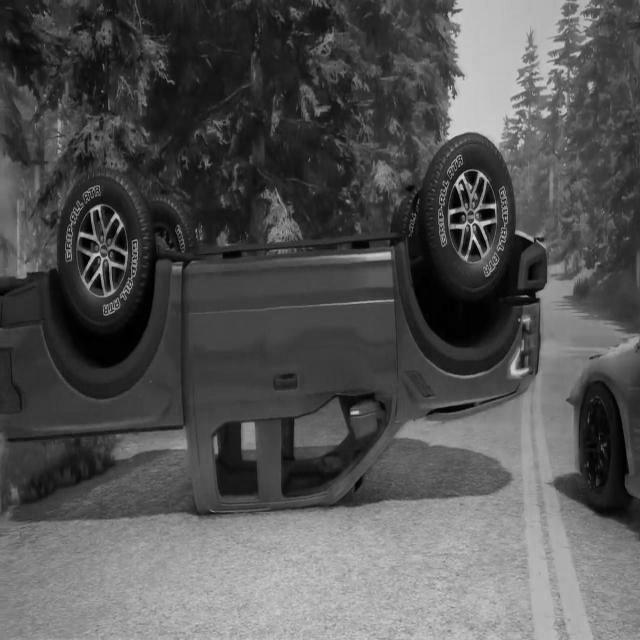accident: (0, 127, 552, 529)
vehicle: (568, 306, 640, 525)
